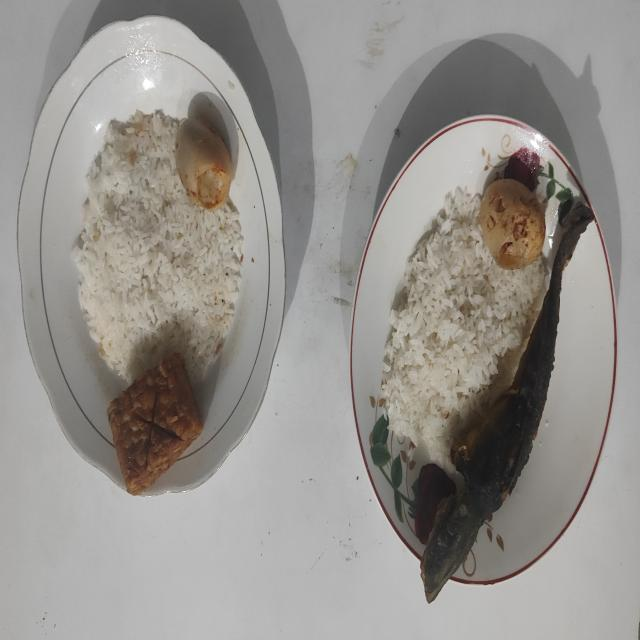nasi_putih: (74, 110, 244, 382), (381, 188, 546, 464)
tempe_goreng: (108, 353, 204, 495)
